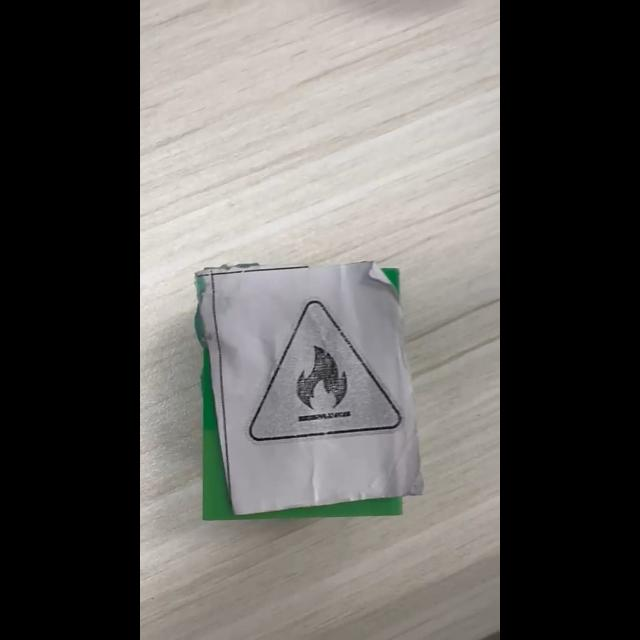Fire: (249, 300, 403, 441)
